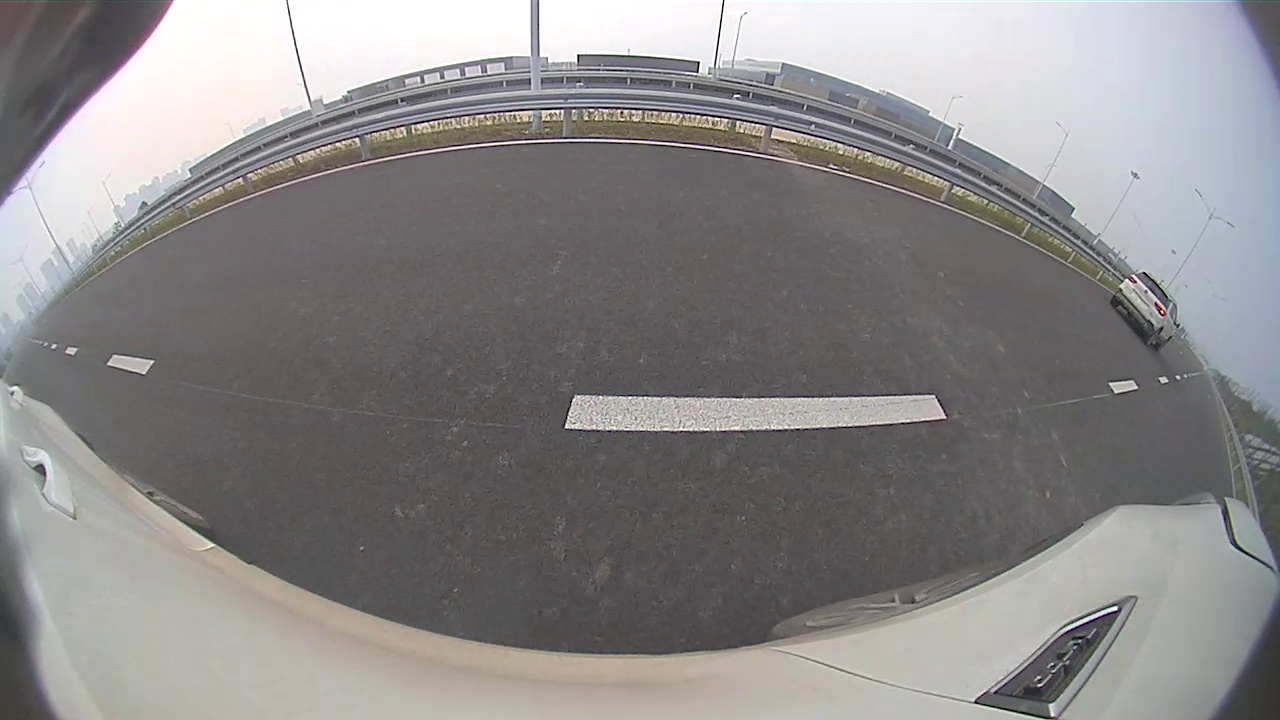car: (676, 88, 939, 260)
front: (676, 173, 691, 218)
rear: (734, 183, 770, 254)
